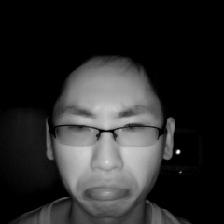sad: (38, 44, 181, 222)
